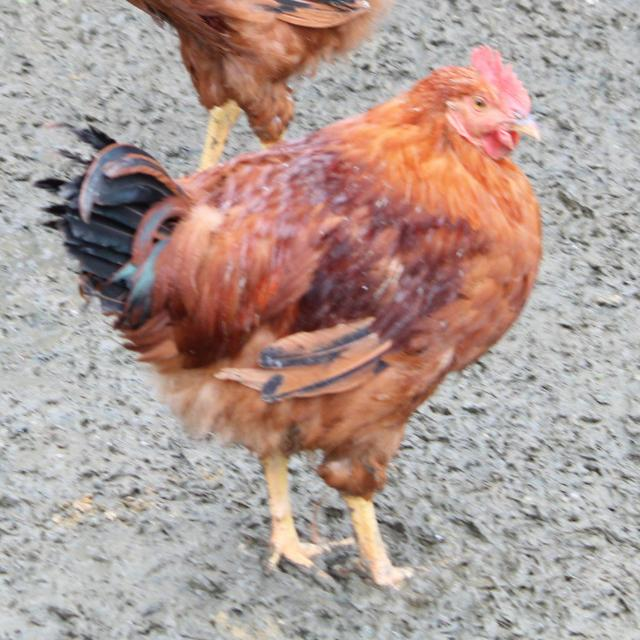cook: (32, 40, 620, 636)
